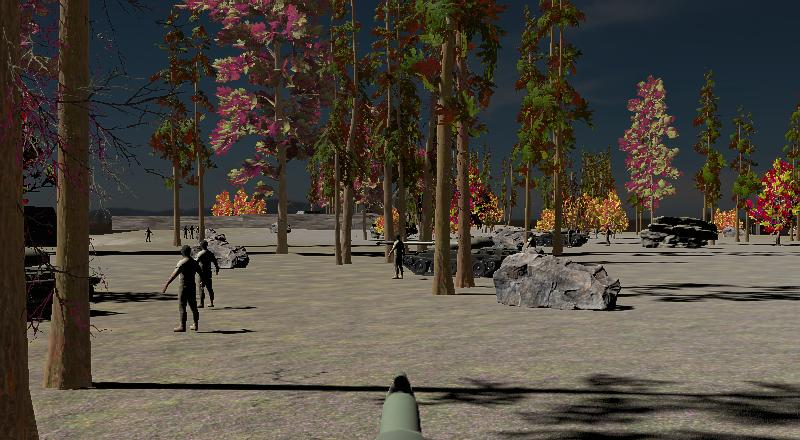Human: (194, 238, 220, 309)
Tank: (386, 227, 523, 280), (0, 241, 63, 319), (528, 224, 590, 248)
